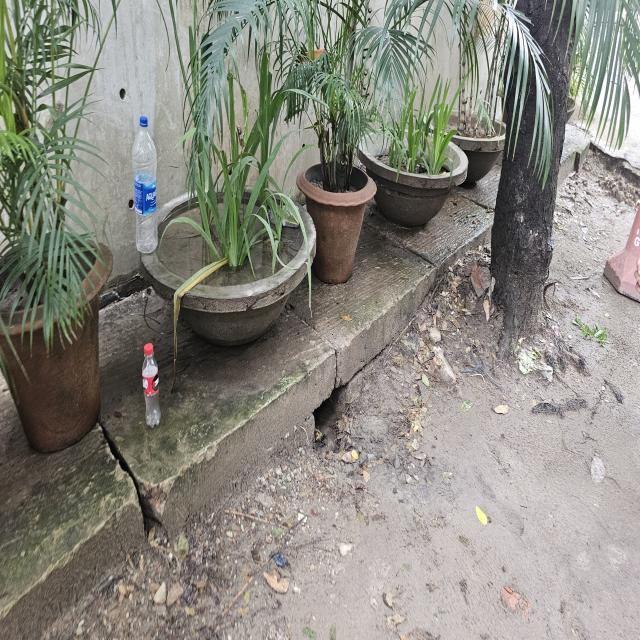artificial_container: (6, 232, 114, 454), (356, 124, 470, 230), (296, 157, 378, 286), (422, 107, 508, 185), (132, 114, 159, 259), (142, 342, 162, 431)
